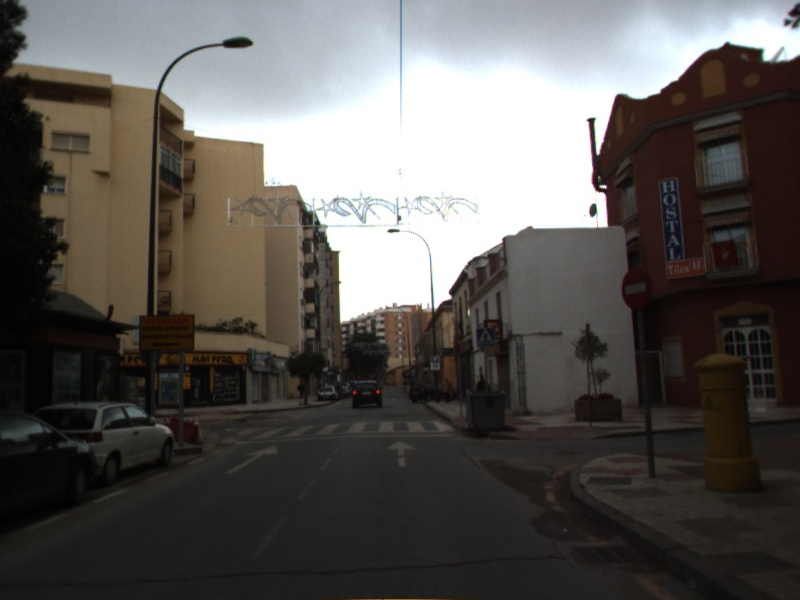STRAIGHT: (223, 444, 280, 476), (384, 438, 419, 469)
